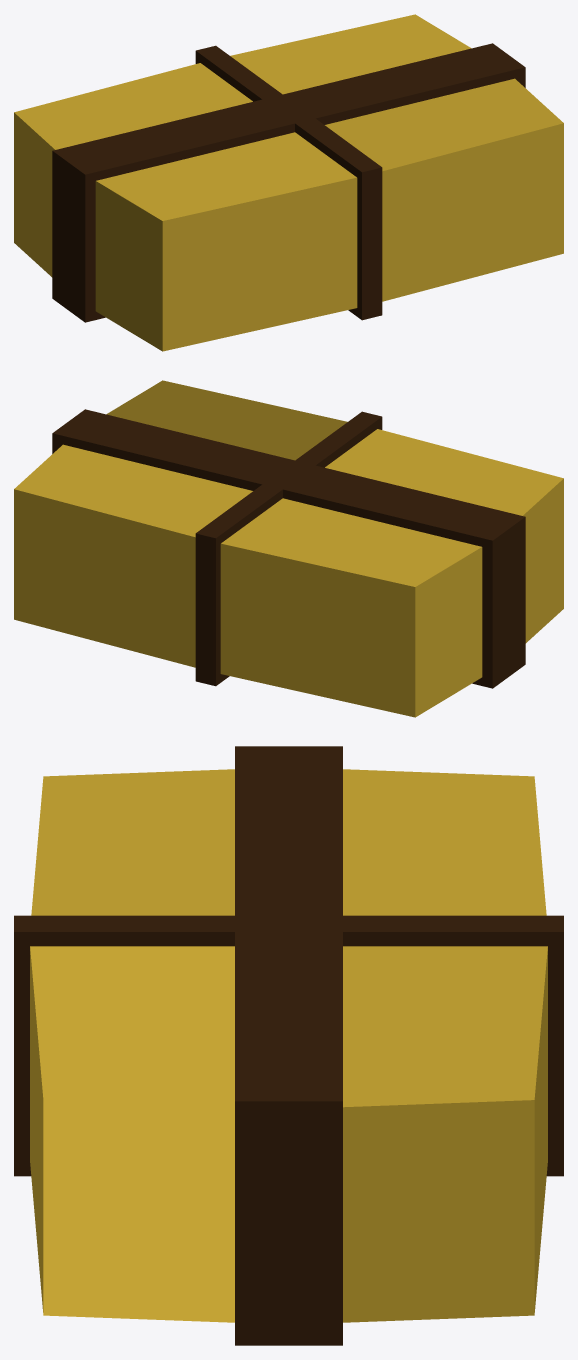
File: Straw2.FBX
3 views of the same model, one above another, from view 1: azimuth 30°, elevation 25°; view 2: azimuth 150°, elevation 25°; view 3: azimuth 270°, elevation 25° (orthographic). The views are drawn at different scales.
Visible parts, largest first — view 1: Straw02; view 2: Straw02; view 3: Straw02.
Boxes of the visible parts, bbox=[...] form: Straw02: bbox=[14, 14, 563, 351]; Straw02: bbox=[14, 380, 563, 717]; Straw02: bbox=[14, 746, 563, 1345].
Size of the model in its own units: 96.66 by 31.05 by 63.27.
